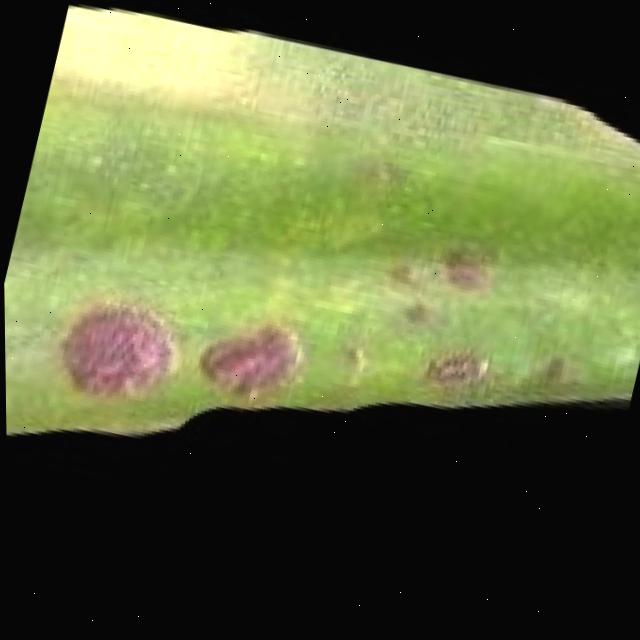mite: (44, 161, 517, 477), (370, 225, 500, 345), (416, 340, 489, 400), (519, 342, 579, 399), (389, 289, 440, 338), (329, 335, 372, 381), (531, 351, 568, 390), (381, 256, 418, 292), (397, 297, 432, 330)
sunburn: (39, 285, 189, 418)
